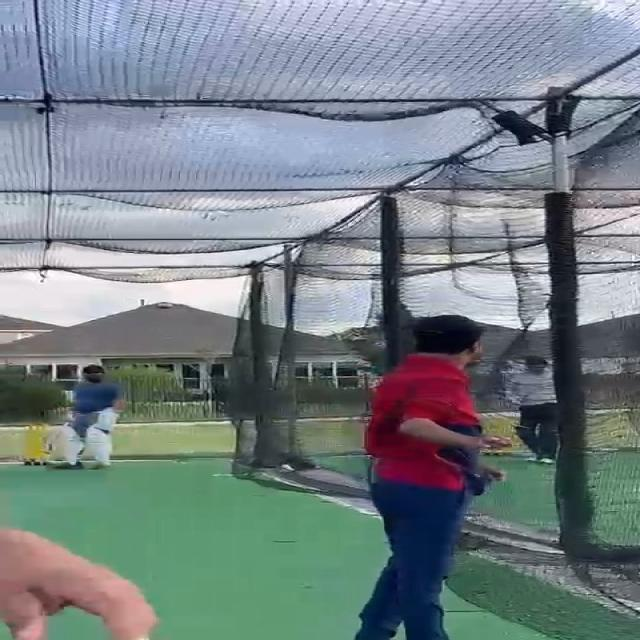batsman: (36, 362, 130, 471)
